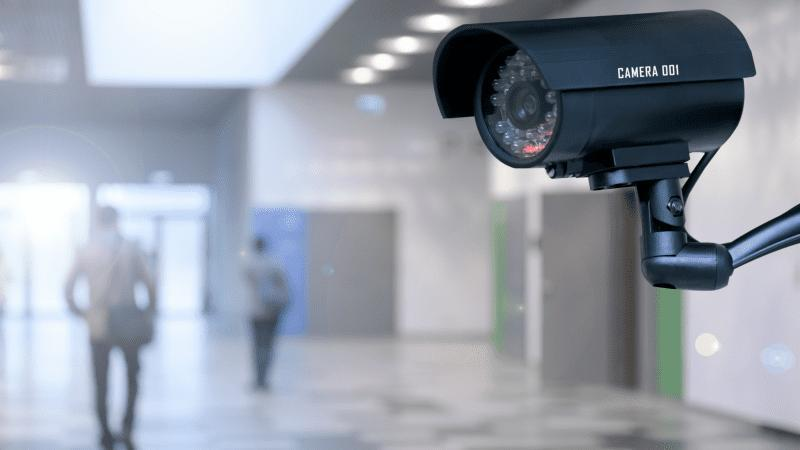CCTV: (434, 9, 800, 291)
